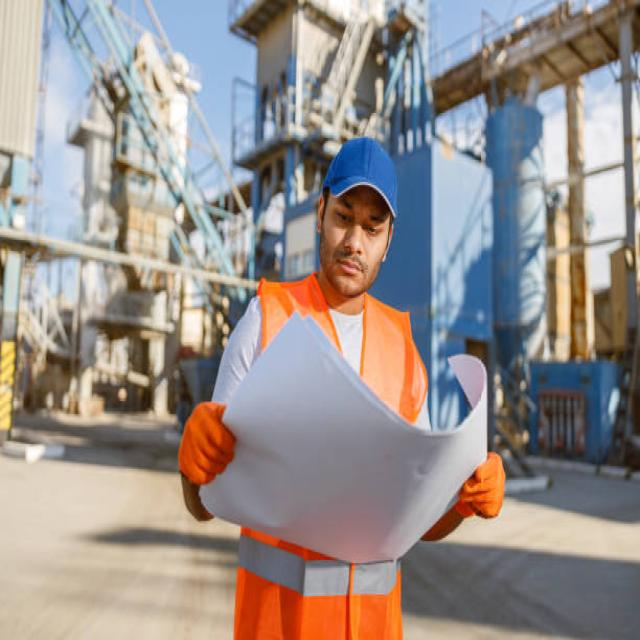Gloves: (177, 399, 238, 487), (458, 451, 509, 519)
Vest: (231, 273, 429, 640)
person: (176, 137, 508, 640)
